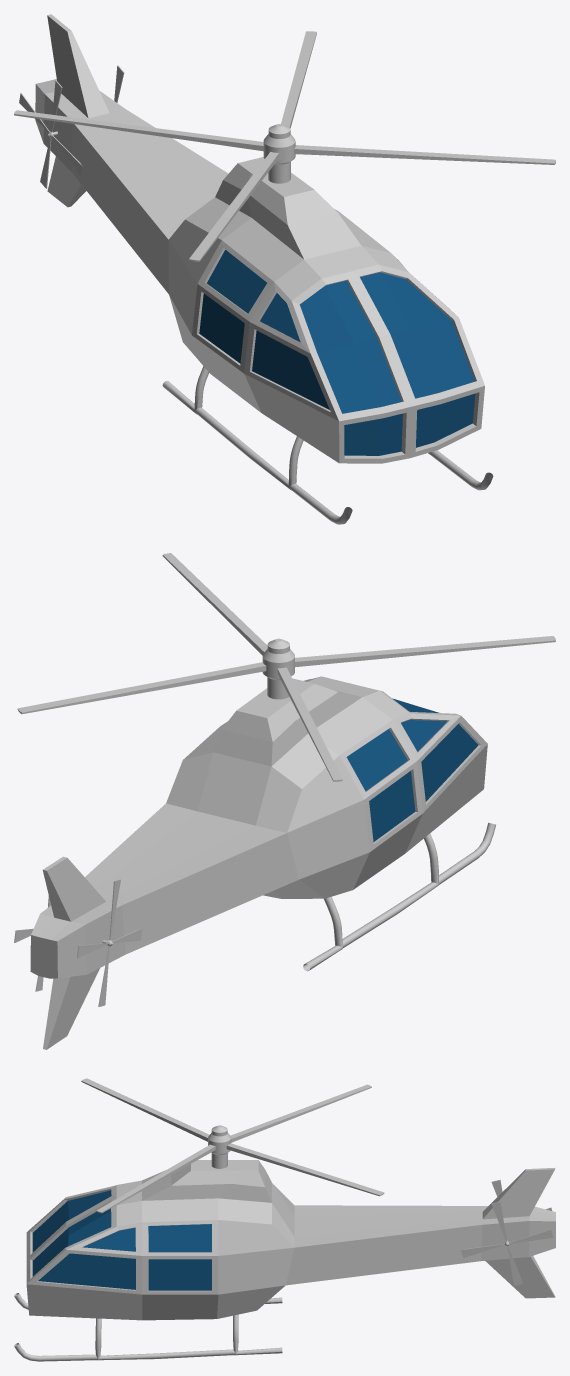
Rendered from helicopter_animation_000020.obj.
3 views of the same model, one above another, from view 1: azimuth 30°, elevation 25°; view 2: azimuth 150°, elevation 25°; view 3: azimuth 270°, elevation 25° (orthographic). The views are drawn at different scales.
Visible parts, largest first — view 1: Helicopter.007_Cylinder.008, Helicopter.001_Cylinder.001, Helicopter.004_Cylinder.005; view 2: Helicopter.007_Cylinder.008, Helicopter.001_Cylinder.001, Helicopter.004_Cylinder.005; view 3: Helicopter.007_Cylinder.008, Helicopter.001_Cylinder.001, Helicopter.003_Cylinder.004.
Boxes of the visible parts, x1=… form: Helicopter.007_Cylinder.008: x1=35, y1=14, x2=493, y2=524; Helicopter.001_Cylinder.001: x1=14, y1=31, x2=555, y2=261; Helicopter.004_Cylinder.005: x1=19, y1=80, x2=82, y2=188; Helicopter.007_Cylinder.008: x1=30, y1=676, x2=495, y2=1049; Helicopter.001_Cylinder.001: x1=17, y1=553, x2=555, y2=781; Helicopter.004_Cylinder.005: x1=77, y1=879, x2=142, y2=1006; Helicopter.007_Cylinder.008: x1=14, y1=1160, x2=555, y2=1361; Helicopter.001_Cylinder.001: x1=81, y1=1078, x2=384, y2=1213; Helicopter.003_Cylinder.004: x1=461, y1=1201, x2=553, y2=1285.
Size of the model in its own units: 4.38 by 3.2 by 7.49.
